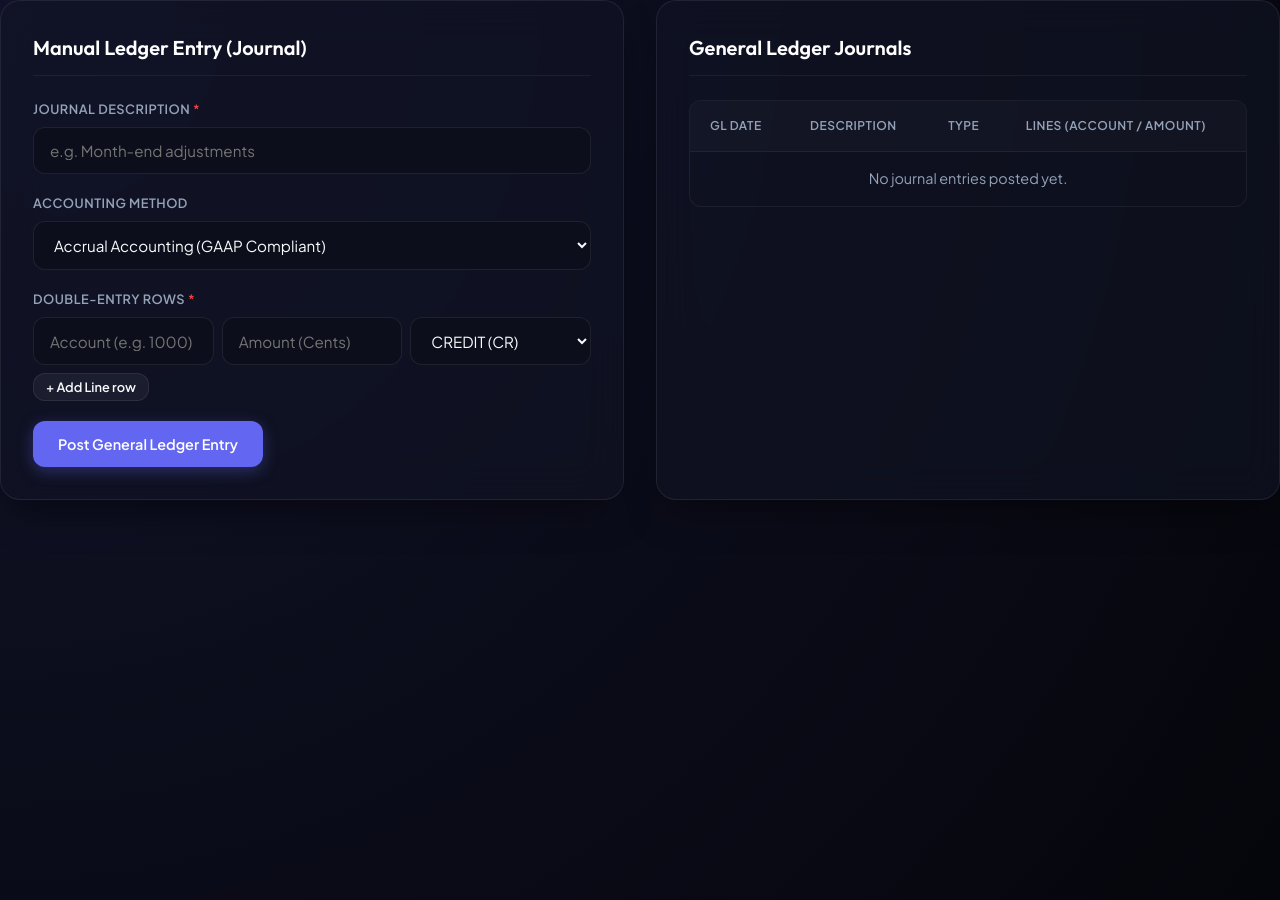
Scenario: LedgerPanel › adds a new journal line row
Click the button "+ Add Line row" at [91, 387], box x1=33 y1=373 x2=149 y2=401
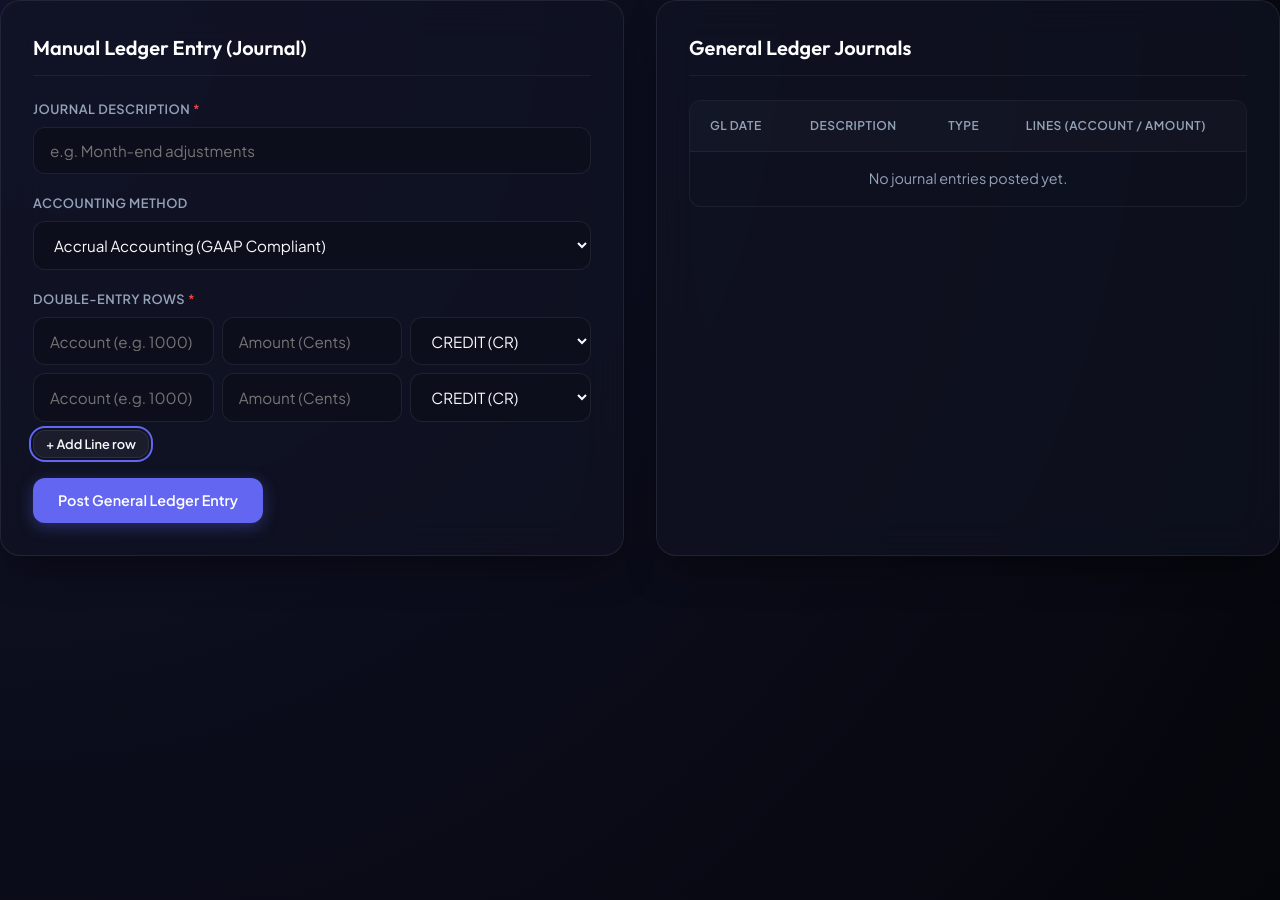
Expected: the number of fields with placeholder "Account (e.g. 1000)" is 2, x1=33 y1=317 x2=214 y2=365; x1=33 y1=373 x2=214 y2=422
